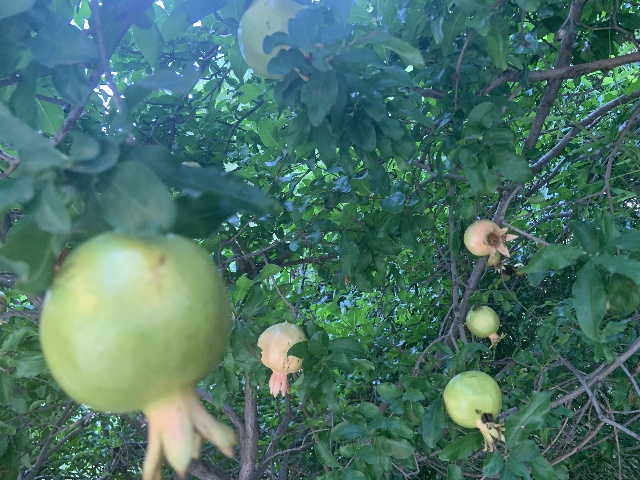early-fruit: (463, 219, 519, 257)
mid-growth: (38, 233, 237, 480), (237, 0, 324, 81), (443, 370, 506, 451), (257, 321, 307, 398), (466, 305, 506, 349), (487, 250, 507, 273)
